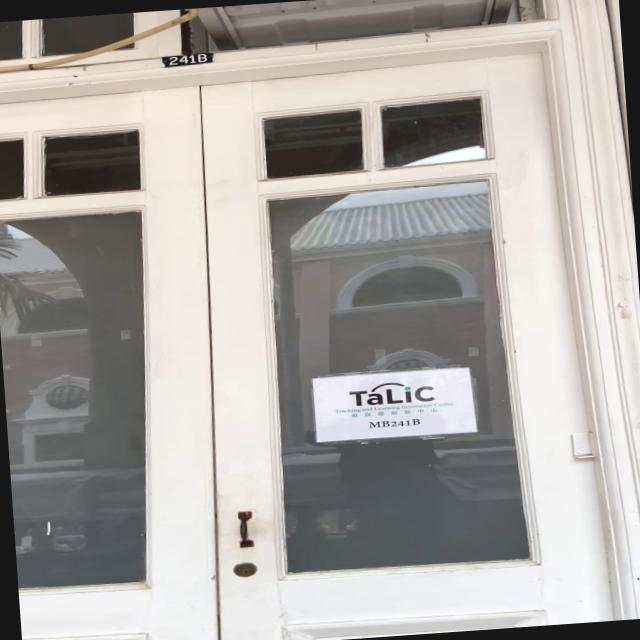room241b: (158, 50, 215, 70)
